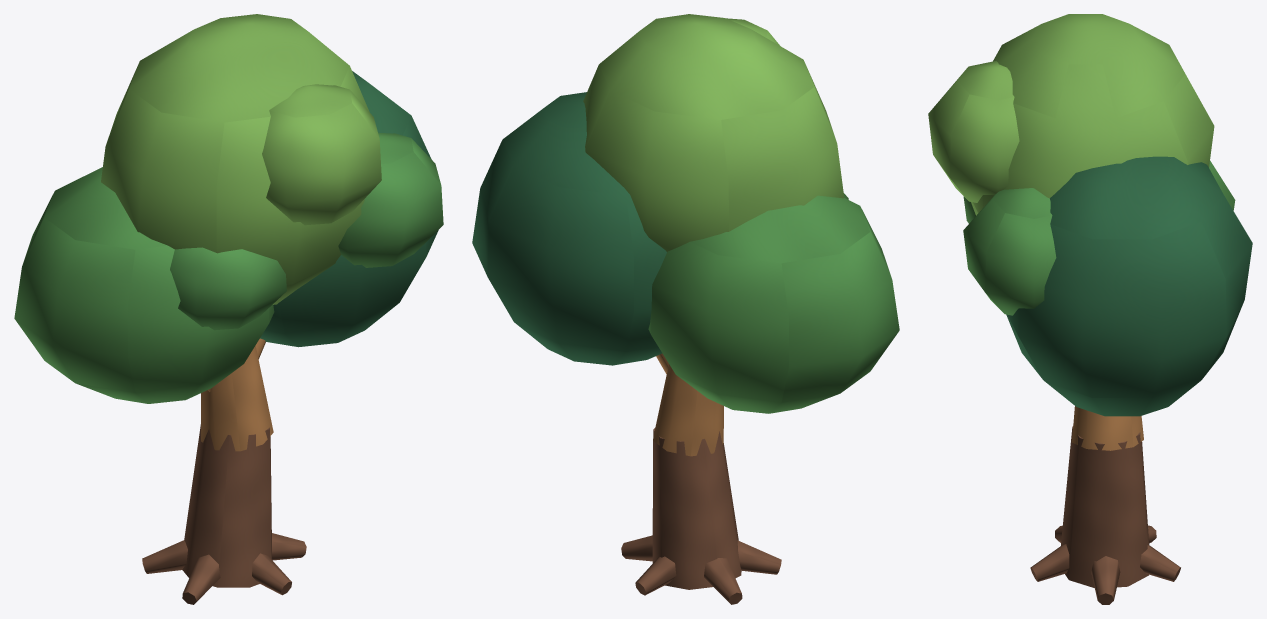
Rendered from tree-01.glb.
3 renders of one model, left to right at view 1: azimuth 30°, elevation 25°; view 2: azimuth 150°, elevation 25°; view 3: azimuth 270°, elevation 25°, orthographic. The views are drawn at different scales.
Parts seen in each view (by area): view 1: tree-01-mesh; view 2: tree-01-mesh; view 3: tree-01-mesh.
Part boxes in pixels (x1,y1,x2,y2): tree-01-mesh: (14,14,443,604); tree-01-mesh: (472,14,899,604); tree-01-mesh: (928,14,1252,604).
Bounding box in the file's own units: 2.69 × 3.62 × 1.94.
Materials: 1 (1 with a texture image).
